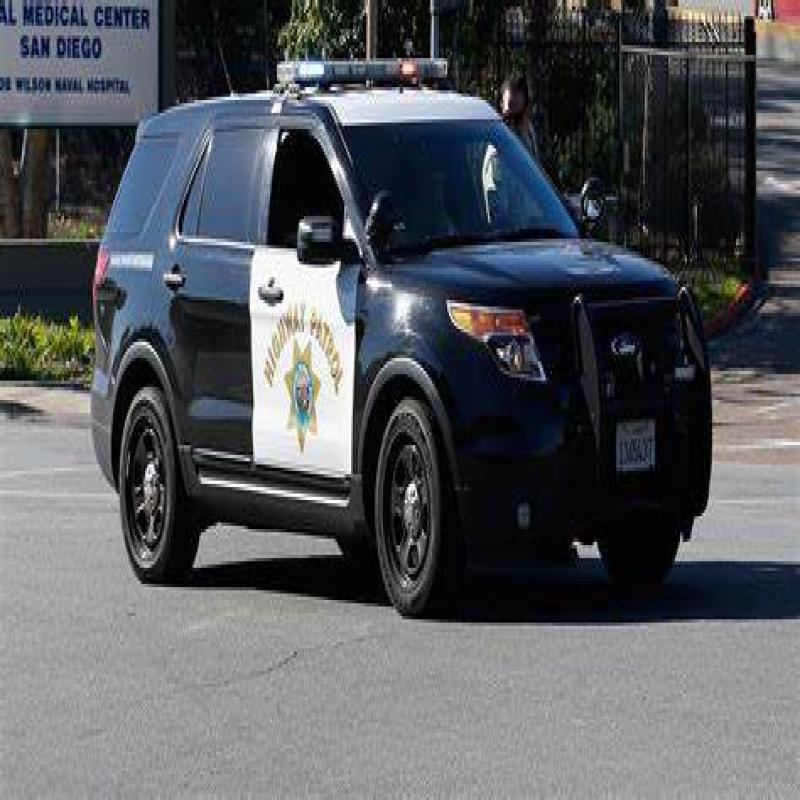AmbulanceSiren: (260, 55, 461, 109)
car: (97, 108, 702, 615)
